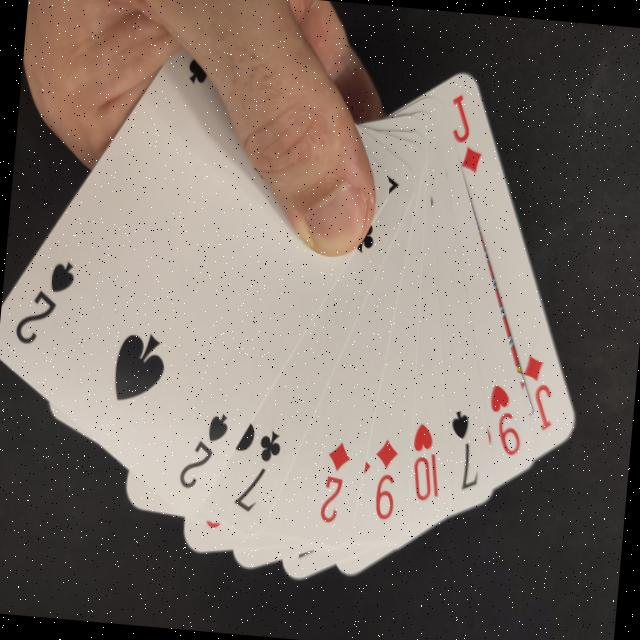10h: (402, 401, 448, 505)
2d: (311, 430, 355, 531)
2s: (8, 248, 80, 353), (174, 399, 238, 496)
7c: (230, 418, 286, 518)
7s: (440, 404, 489, 491)
9d: (366, 431, 402, 526)
9h: (479, 376, 526, 458)
Jd: (439, 86, 495, 180), (512, 348, 563, 434)
